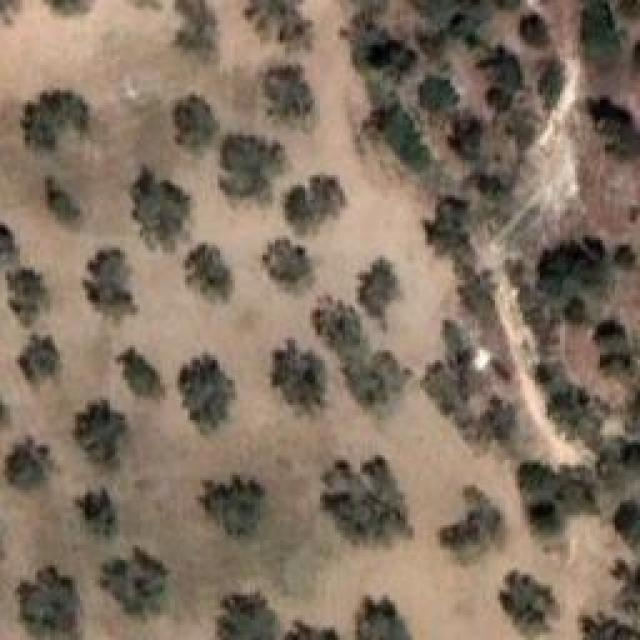Tree: (423, 320, 517, 447), (323, 455, 413, 543), (133, 168, 192, 252), (440, 488, 503, 564), (177, 355, 235, 435), (100, 548, 168, 616), (538, 238, 607, 300), (20, 567, 77, 640), (220, 134, 283, 200), (370, 103, 430, 171), (273, 340, 327, 412), (345, 350, 412, 408), (25, 90, 89, 148), (83, 250, 137, 318), (205, 475, 265, 536), (285, 175, 345, 233), (500, 570, 555, 633), (75, 400, 128, 465), (518, 463, 564, 536), (307, 298, 365, 353), (588, 98, 640, 159), (358, 258, 401, 330), (478, 45, 523, 112), (245, 0, 313, 42), (220, 592, 276, 640), (185, 245, 231, 302), (425, 195, 470, 253), (265, 65, 315, 117), (173, 95, 219, 151), (5, 438, 51, 491), (117, 347, 165, 397), (175, 0, 216, 58), (8, 268, 48, 326), (357, 598, 412, 640), (263, 240, 312, 285), (582, 0, 619, 59), (75, 488, 116, 536), (18, 335, 58, 383), (593, 322, 629, 372), (448, 113, 483, 161), (420, 75, 461, 111), (48, 178, 81, 222), (582, 617, 639, 640), (612, 500, 640, 545), (538, 63, 563, 110), (520, 15, 546, 47), (0, 223, 19, 264), (615, 248, 633, 270)
